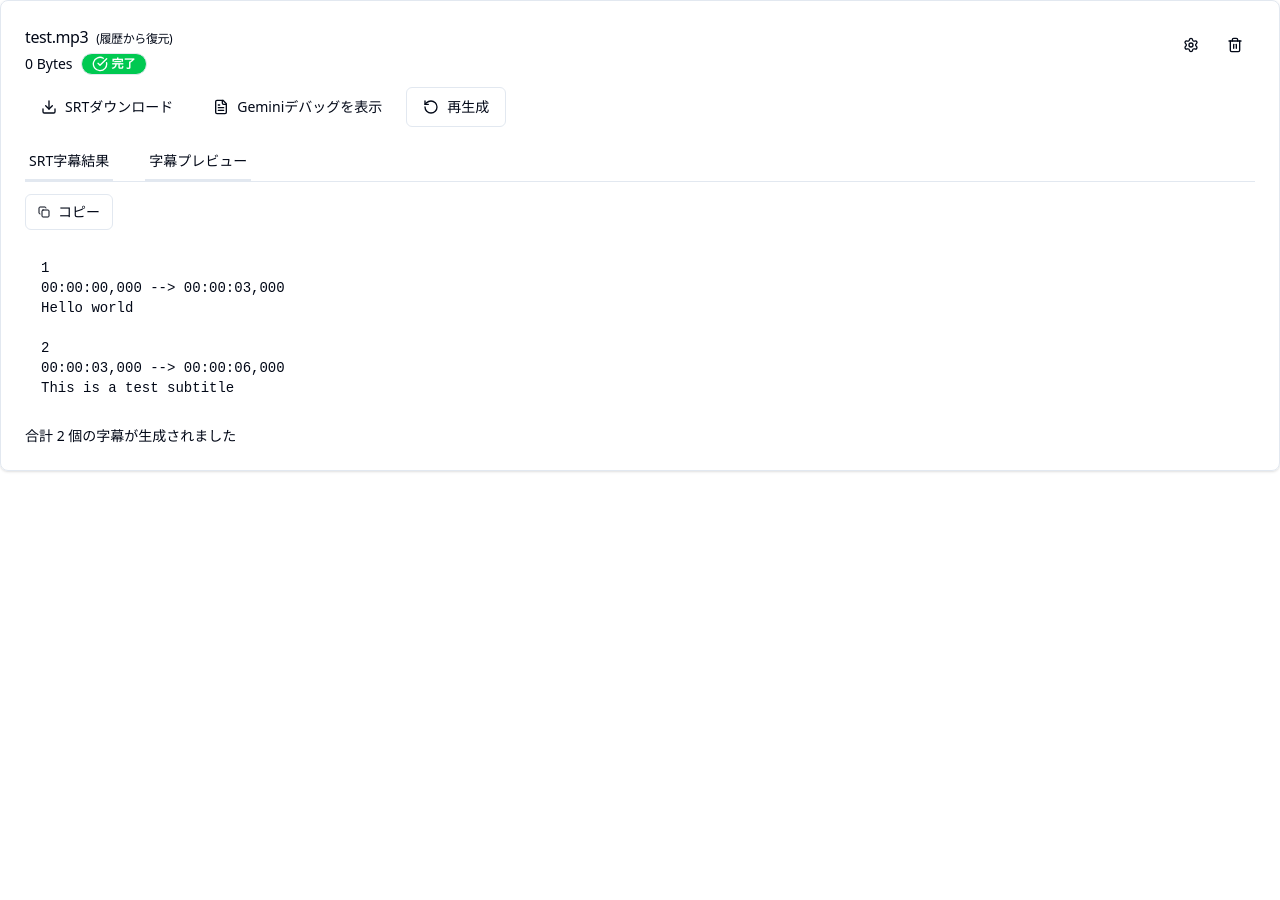
Test case: SrtFileCard Preview Integration › maintains other functionality while preview tab is active
This screenshot has width=1280, height=900.
Switch to preview tab
What coordinates should you click on to do the following:
click the button "字幕プレビュー"
I would click on:
 (198, 162)
Its box is left=145, top=143, right=251, bottom=181.
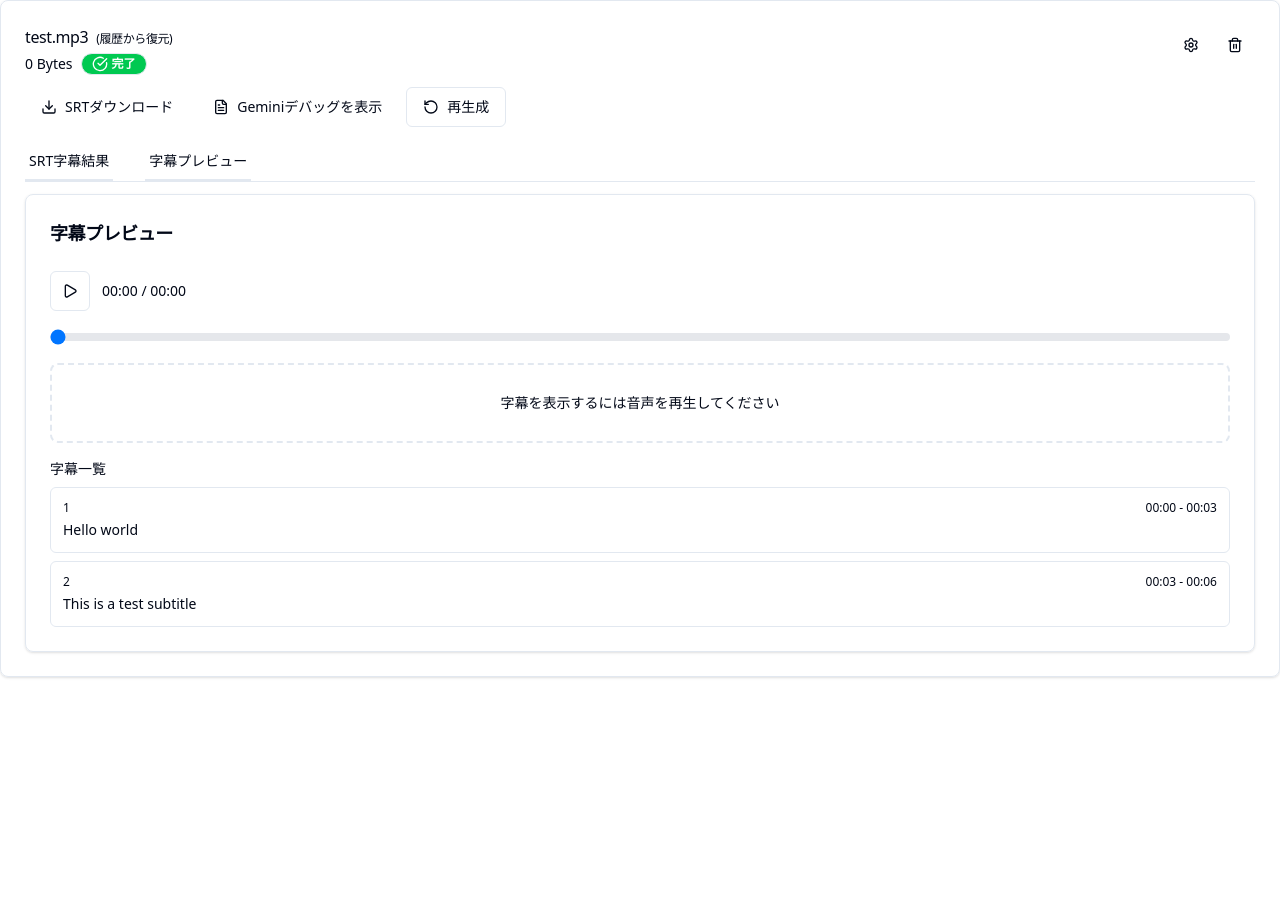
Expected: the button "SRTダウンロード" is shown, left=25, top=87, right=189, bottom=127
Expected: the element with test id "subtitle-display" is shown, left=50, top=363, right=1230, bottom=443
What coordinates should you click on to do the following:
click the 1st button
I would click on:
 (1191, 45)
Its box is left=1171, top=25, right=1211, bottom=65.
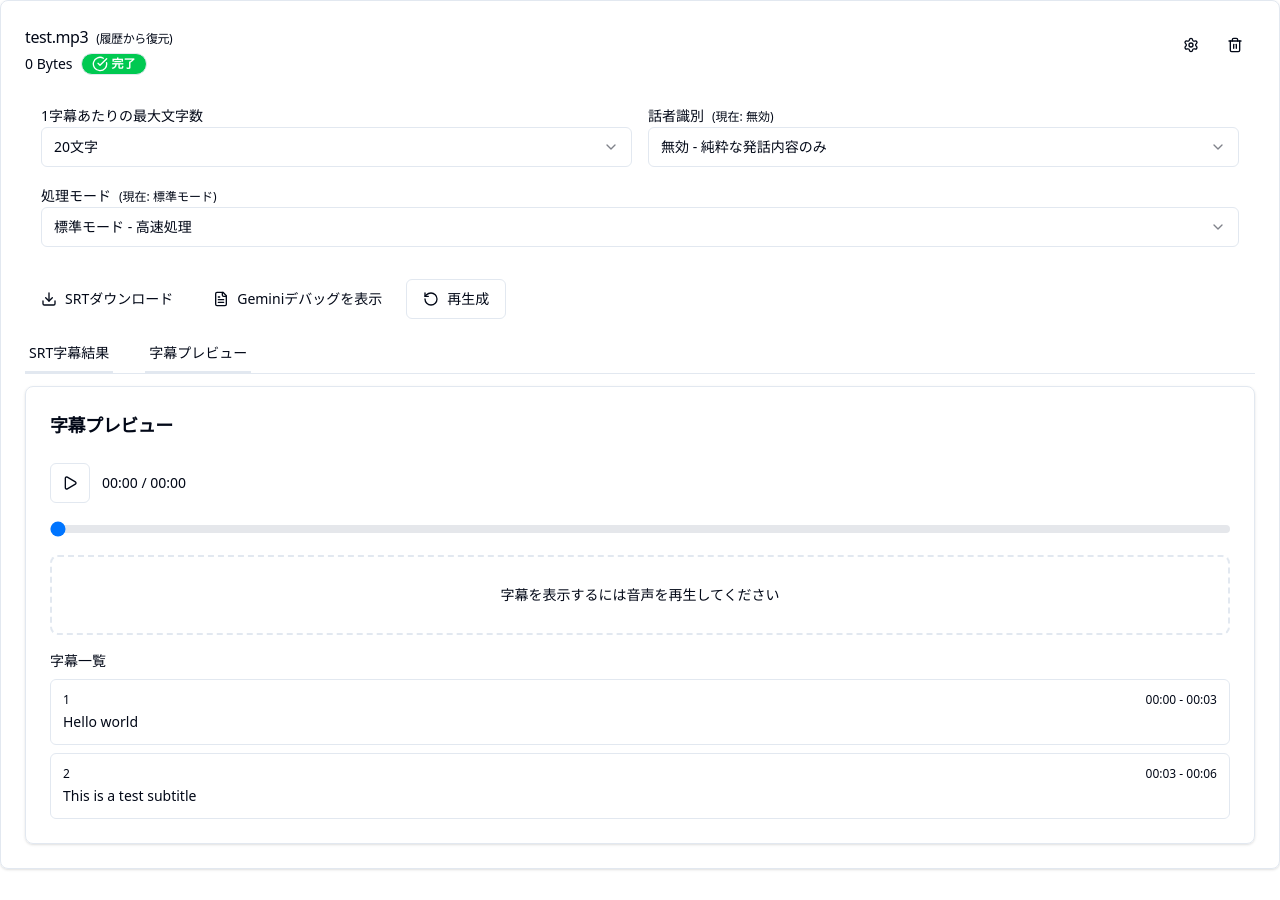
Expected: the text "1字幕あたりの最大文字数" is shown, left=41, top=106, right=203, bottom=125
